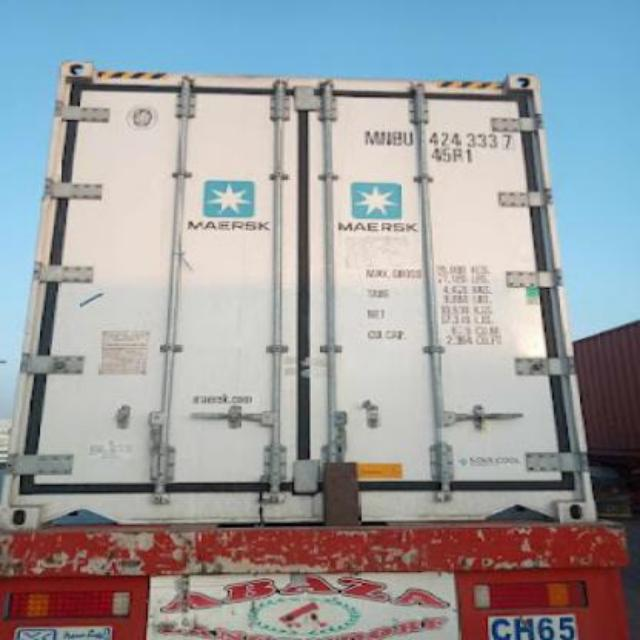2: (438, 128, 450, 148)
3: (486, 126, 499, 150), (464, 128, 478, 148), (476, 128, 486, 148)
4: (426, 127, 439, 147), (451, 128, 464, 148)
7: (498, 128, 516, 154)
B: (392, 126, 404, 150)
M: (364, 127, 380, 143)
N: (380, 126, 392, 150)
U: (402, 127, 416, 153)
